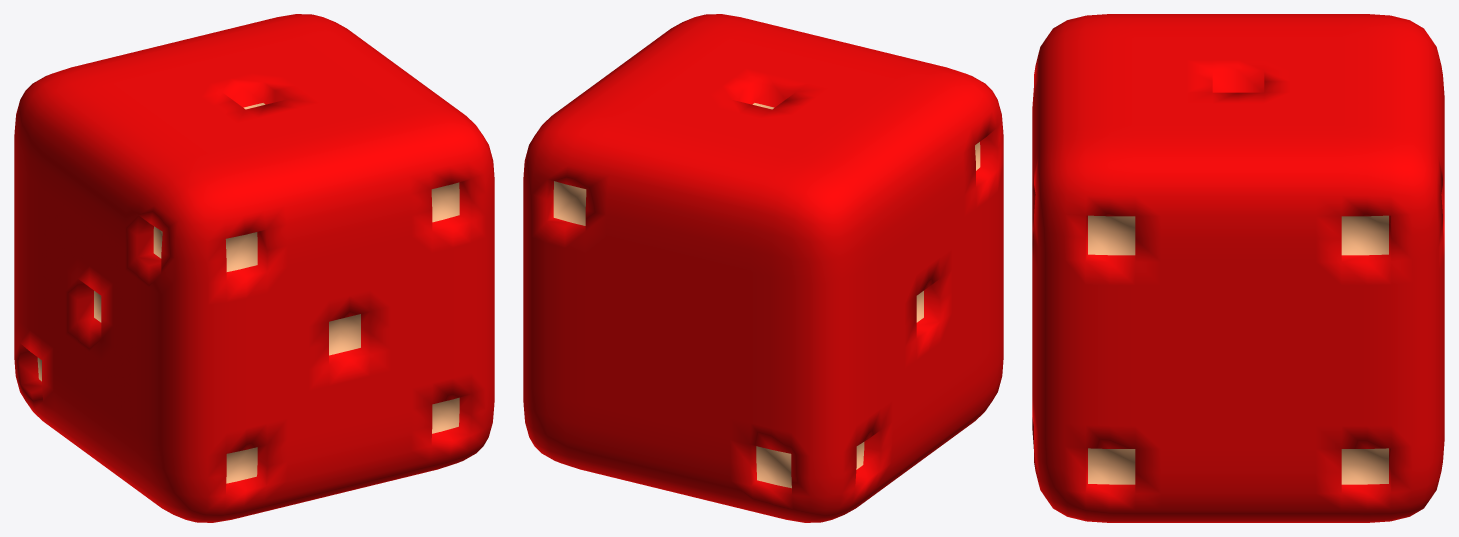
File: dice.fbx
3 renders of one model, left to right at view 1: azimuth 30°, elevation 25°; view 2: azimuth 150°, elevation 25°; view 3: azimuth 270°, elevation 25°, orthographic. The views are drawn at different scales.
Visible parts, largest first — view 1: Empty_Mesh; view 2: Empty_Mesh; view 3: Empty_Mesh.
Boxes of the visible parts, x1,y1,x2,y2 form: Empty_Mesh: (14, 14, 494, 522); Empty_Mesh: (523, 14, 1003, 522); Empty_Mesh: (1032, 14, 1444, 522).
Bounding box in the file's own units: 5 × 5 × 5.
